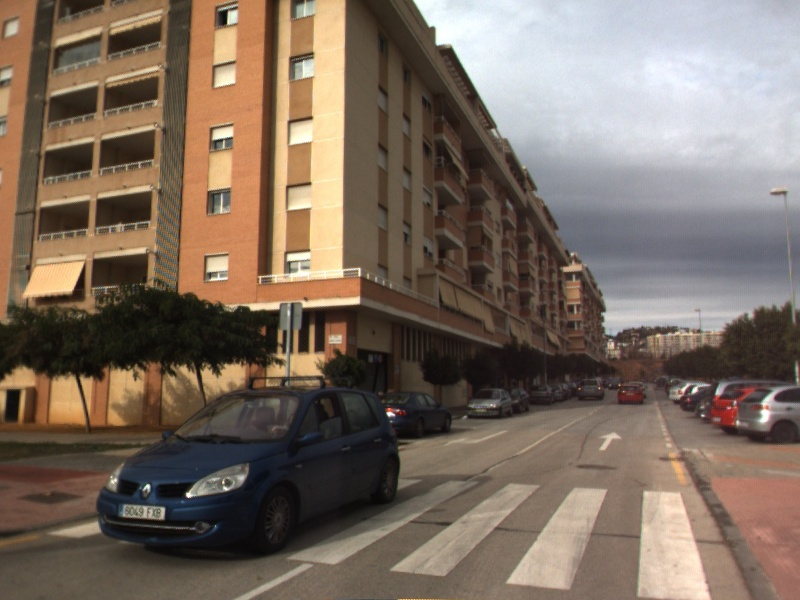STRAIGHT: (596, 430, 624, 453)
